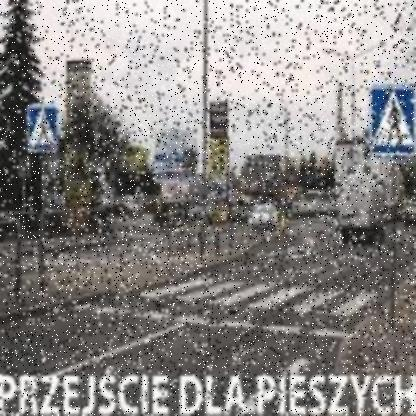Pedestrian Crossing: (367, 81, 416, 161), (27, 104, 61, 152)
